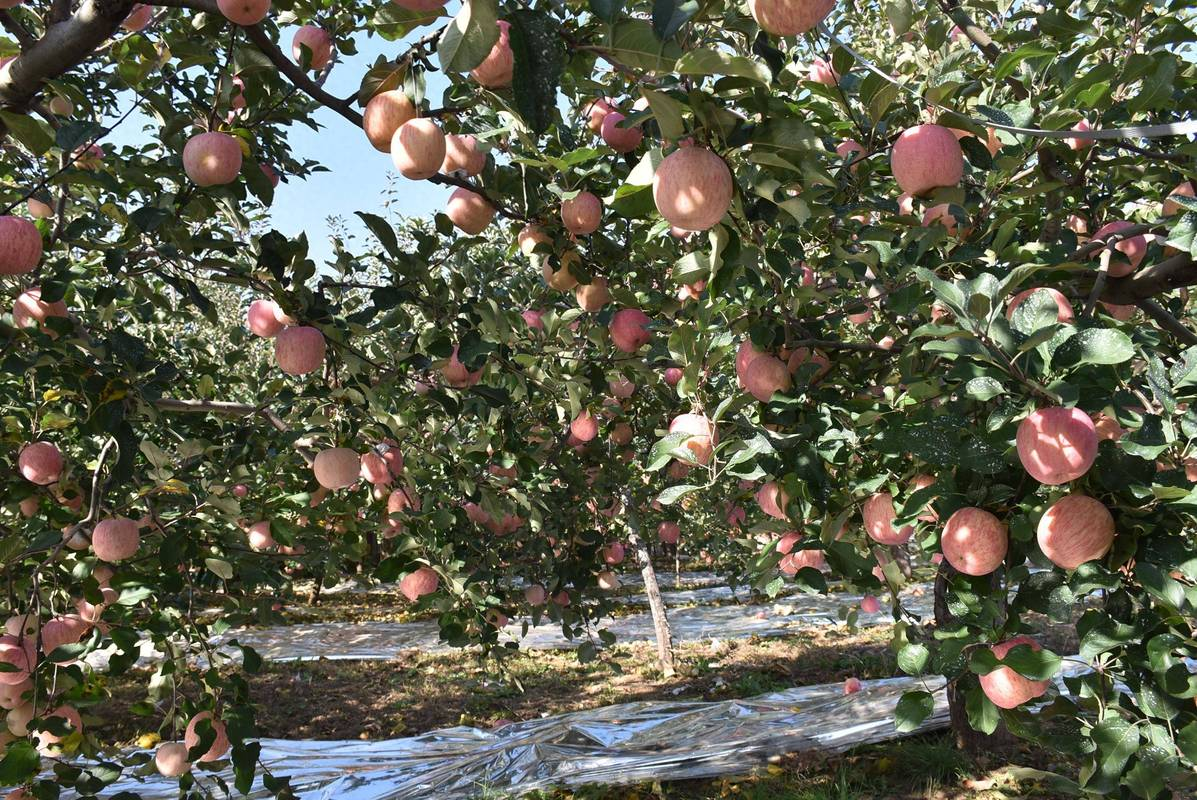ripe: (1014, 404, 1098, 484), (878, 118, 961, 198), (969, 633, 1055, 710), (1037, 496, 1122, 571), (937, 510, 1008, 586), (84, 502, 147, 571), (184, 124, 245, 186), (267, 322, 331, 376), (0, 206, 43, 280), (12, 435, 69, 488), (445, 184, 498, 235), (606, 296, 653, 353)
unripe: (649, 147, 737, 231), (386, 114, 447, 180), (357, 86, 414, 147), (306, 445, 365, 494), (533, 245, 582, 286)
